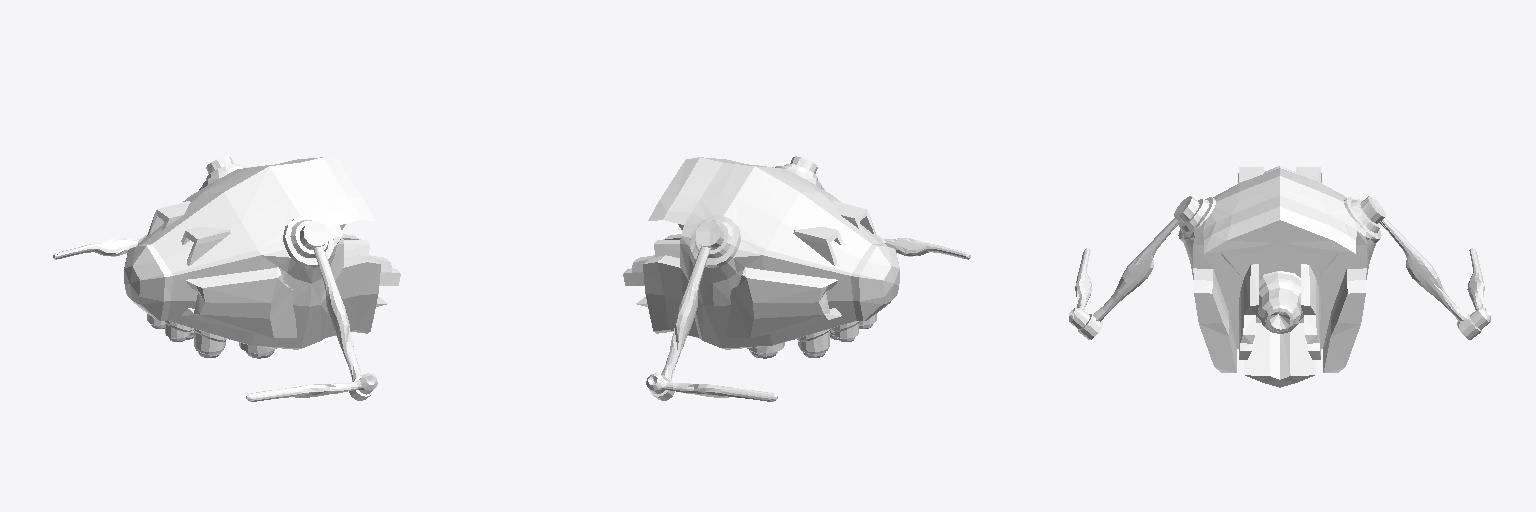
3 renders of one model, left to right at view 1: azimuth 30°, elevation 25°; view 2: azimuth 150°, elevation 25°; view 3: azimuth 270°, elevation 25°, orthographic.
Visible parts, largest first — view 1: RetopoGroup1, RetopoGroup8, RetopoGroup7, RetopoGroup6, RetopoGroup11, RetopoGroup9, RetopoGroup5, RetopoGroup4, RetopoGroup3; view 2: RetopoGroup1, RetopoGroup8, RetopoGroup7, RetopoGroup6, RetopoGroup11, RetopoGroup9, RetopoGroup5, RetopoGroup4, RetopoGroup3; view 3: RetopoGroup1, RetopoGroup9, RetopoGroup6, RetopoGroup10, RetopoGroup7, RetopoGroup5, RetopoGroup11.
Part boxes in pixels (bbox=[...]): RetopoGroup1: bbox=[124, 157, 380, 349]; RetopoGroup8: bbox=[138, 234, 296, 337]; RetopoGroup7: bbox=[53, 238, 377, 401]; RetopoGroup6: bbox=[199, 187, 374, 400]; RetopoGroup11: bbox=[147, 201, 230, 265]; RetopoGroup9: bbox=[340, 224, 400, 306]; RetopoGroup5: bbox=[206, 156, 327, 249]; RetopoGroup4: bbox=[186, 328, 226, 357]; RetopoGroup3: bbox=[147, 314, 191, 341]; RetopoGroup1: bbox=[643, 157, 899, 349]; RetopoGroup8: bbox=[727, 234, 885, 337]; RetopoGroup7: bbox=[646, 238, 970, 401]; RetopoGroup6: bbox=[649, 187, 824, 400]; RetopoGroup11: bbox=[793, 201, 876, 265]; RetopoGroup9: bbox=[623, 224, 683, 306]; RetopoGroup5: bbox=[696, 156, 817, 249]; RetopoGroup4: bbox=[797, 328, 837, 357]; RetopoGroup3: bbox=[832, 314, 876, 341]; RetopoGroup1: bbox=[1178, 166, 1381, 372]; RetopoGroup9: bbox=[1239, 264, 1320, 387]; RetopoGroup6: bbox=[1078, 218, 1481, 339]; RetopoGroup10: bbox=[1256, 271, 1303, 333]; RetopoGroup7: bbox=[1069, 248, 1490, 329]; RetopoGroup5: bbox=[1174, 196, 1385, 223]; RetopoGroup11: bbox=[1238, 167, 1321, 183].
Bounding box in the file's own units: 82.7 × 54.21 × 120.